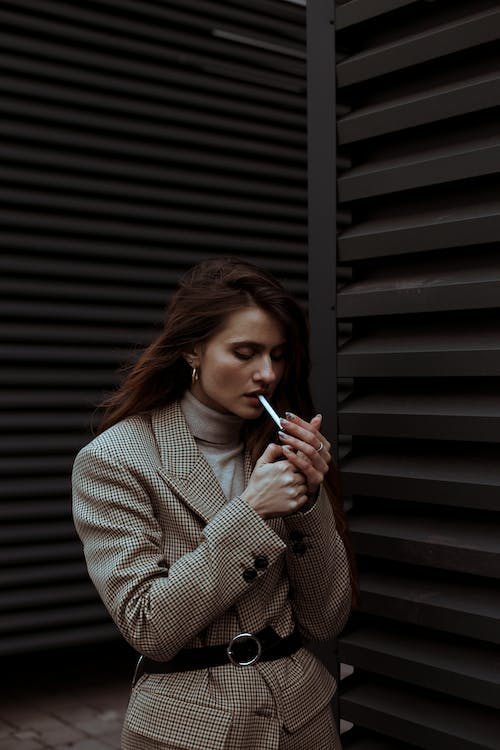cigarette: (258, 392, 286, 430)
